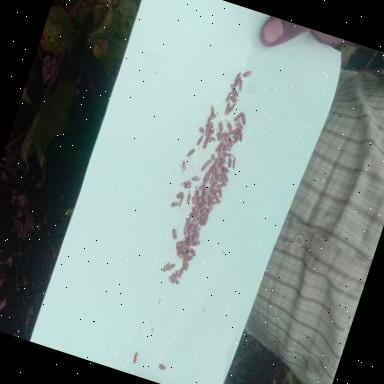pbw: (206, 120, 217, 134), (238, 113, 249, 127), (164, 262, 176, 274), (184, 232, 194, 246), (222, 102, 232, 116), (201, 123, 211, 137), (229, 88, 240, 100), (216, 121, 226, 134), (201, 136, 209, 152), (232, 132, 241, 146), (170, 228, 180, 240), (200, 160, 210, 172), (187, 248, 197, 260), (160, 261, 170, 273), (218, 178, 228, 190), (188, 206, 198, 218), (233, 71, 242, 84), (193, 194, 201, 208), (205, 130, 213, 144), (206, 201, 214, 215), (196, 132, 204, 146), (178, 194, 186, 208), (219, 166, 230, 176), (224, 122, 234, 133), (228, 102, 237, 114), (186, 148, 195, 160), (182, 176, 192, 186), (212, 197, 222, 207), (228, 94, 238, 104), (242, 69, 252, 79), (175, 251, 186, 260), (194, 198, 201, 212), (213, 156, 220, 170), (200, 214, 207, 228), (224, 131, 232, 143), (182, 234, 190, 246), (182, 224, 190, 236), (226, 156, 234, 168), (214, 142, 222, 154), (170, 272, 178, 284), (196, 210, 204, 222), (202, 176, 210, 188), (218, 141, 226, 153), (206, 196, 214, 208), (214, 165, 222, 177), (234, 76, 242, 88), (208, 104, 216, 116), (176, 267, 184, 279), (230, 127, 240, 136), (208, 112, 217, 122), (182, 246, 191, 256), (181, 240, 190, 250), (191, 174, 202, 182), (216, 187, 224, 198), (206, 192, 213, 204), (225, 90, 232, 102), (192, 190, 199, 202), (191, 214, 198, 226), (195, 206, 202, 218), (237, 80, 244, 92), (180, 160, 187, 172), (230, 158, 237, 170), (199, 190, 206, 202), (206, 166, 213, 178), (210, 192, 220, 200), (222, 174, 230, 184), (222, 144, 232, 152), (218, 158, 226, 168), (192, 238, 200, 248), (209, 187, 219, 195), (217, 166, 225, 176), (226, 136, 234, 146), (220, 146, 228, 156), (216, 151, 226, 159), (196, 126, 206, 134), (208, 164, 216, 174), (210, 182, 218, 192), (194, 226, 201, 237), (212, 168, 219, 179), (176, 238, 184, 247), (202, 214, 208, 226), (210, 175, 218, 184), (204, 119, 212, 128), (214, 133, 222, 142), (182, 254, 190, 263), (202, 194, 210, 203), (186, 222, 192, 234), (214, 182, 223, 190), (234, 122, 243, 130), (191, 235, 199, 244), (203, 171, 209, 183), (198, 213, 204, 225), (171, 200, 179, 209), (183, 182, 192, 190), (187, 236, 194, 246), (190, 196, 197, 206), (219, 134, 226, 144), (201, 207, 208, 217), (180, 242, 187, 252), (200, 201, 207, 211), (185, 194, 192, 204), (188, 223, 194, 234), (192, 220, 198, 231), (220, 173, 228, 181), (206, 157, 214, 165), (208, 136, 216, 144), (166, 275, 174, 283), (180, 260, 187, 269), (157, 364, 167, 370), (194, 190, 200, 200), (192, 228, 198, 238), (184, 262, 190, 272), (238, 132, 244, 142), (185, 215, 191, 225), (198, 200, 205, 208), (224, 152, 231, 160), (217, 130, 225, 137), (198, 184, 206, 191), (207, 178, 214, 186), (225, 140, 232, 148), (173, 245, 180, 253), (204, 190, 213, 196), (186, 255, 192, 264), (177, 243, 183, 252), (173, 269, 179, 278), (188, 212, 195, 219), (186, 244, 192, 252), (228, 83, 236, 89), (202, 188, 208, 196), (172, 278, 180, 284), (190, 230, 195, 239), (177, 194, 183, 201), (216, 177, 222, 183), (210, 154, 216, 160), (218, 157, 224, 162), (180, 246, 184, 252)
